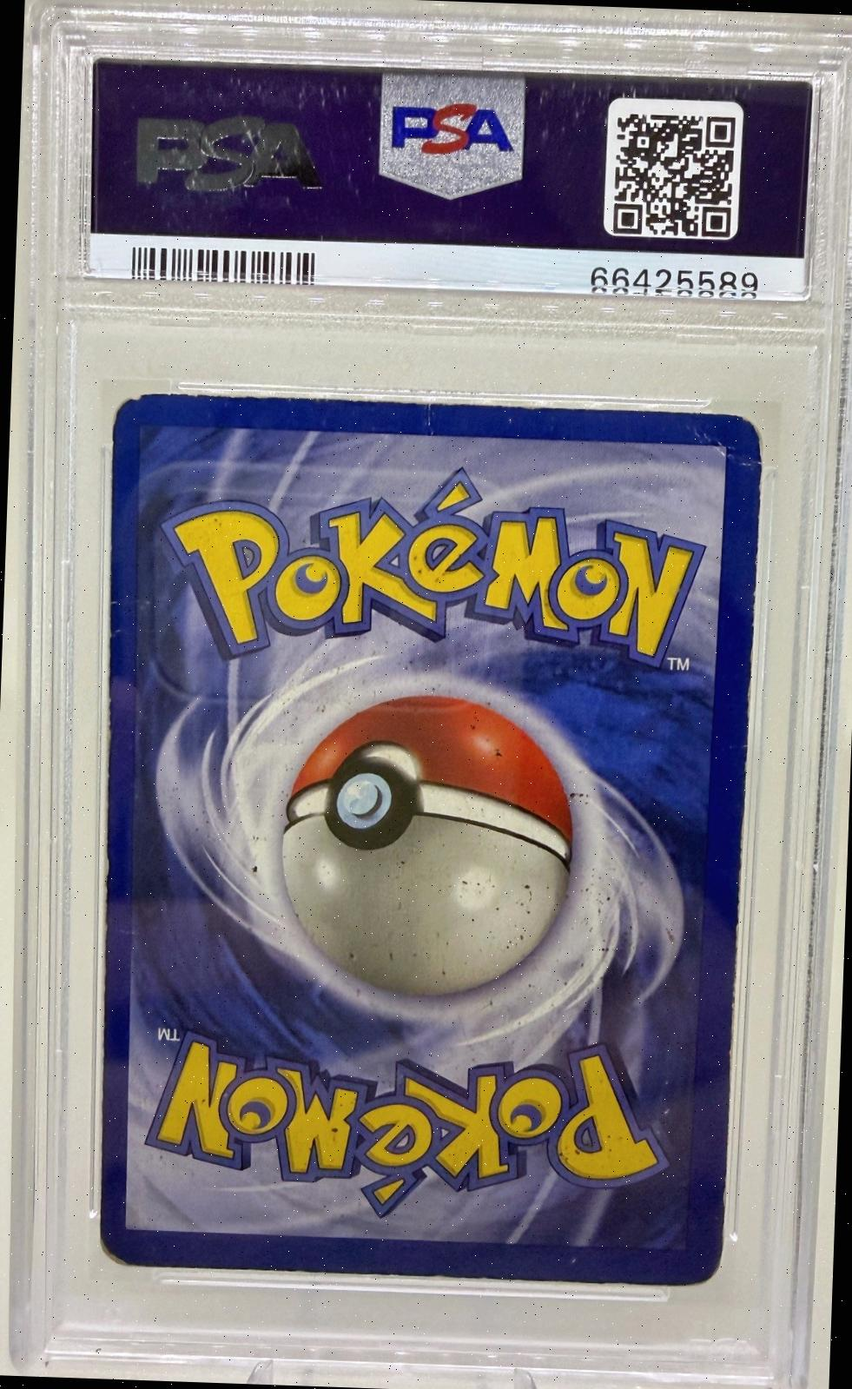card-2UtV: (98, 391, 763, 1287)
